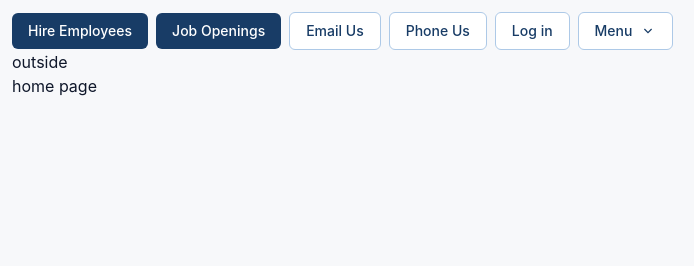
Test: <GlobalNav /> — dropdown menu › closes when Escape is pressed
The image size is (694, 266).
Step 1. Click the button "Menu" → {"x": 626, "y": 31}, box [578,12,673,50]
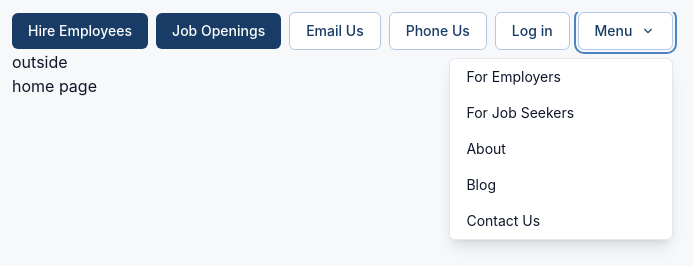
Expected: the menu is shown, [449,58,673,240]
Step 2. Press Escape
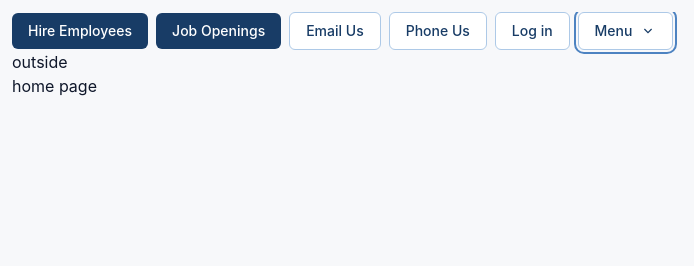
Expected: the menu is gone
